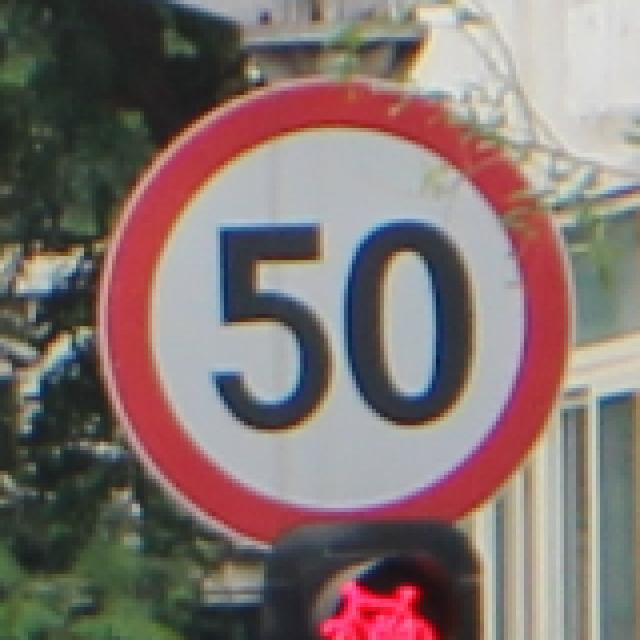Limite-50: (91, 70, 580, 556)
